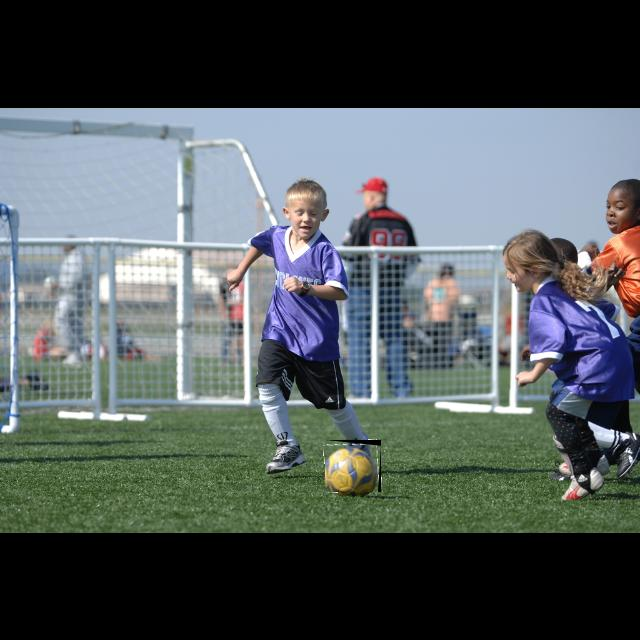Football: (325, 440, 381, 492)
